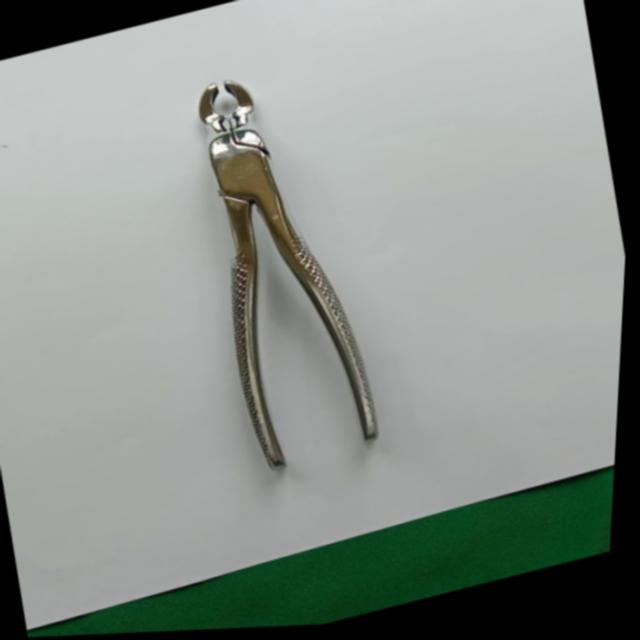BayonetForcep: (161, 45, 423, 487)
